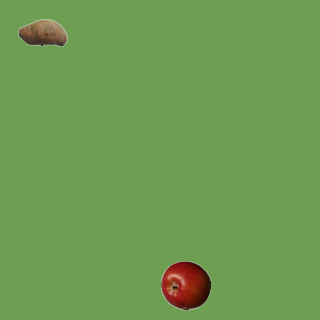Apple Braeburn: (160, 260, 210, 310)
Potato Sweet: (17, 7, 67, 57)
